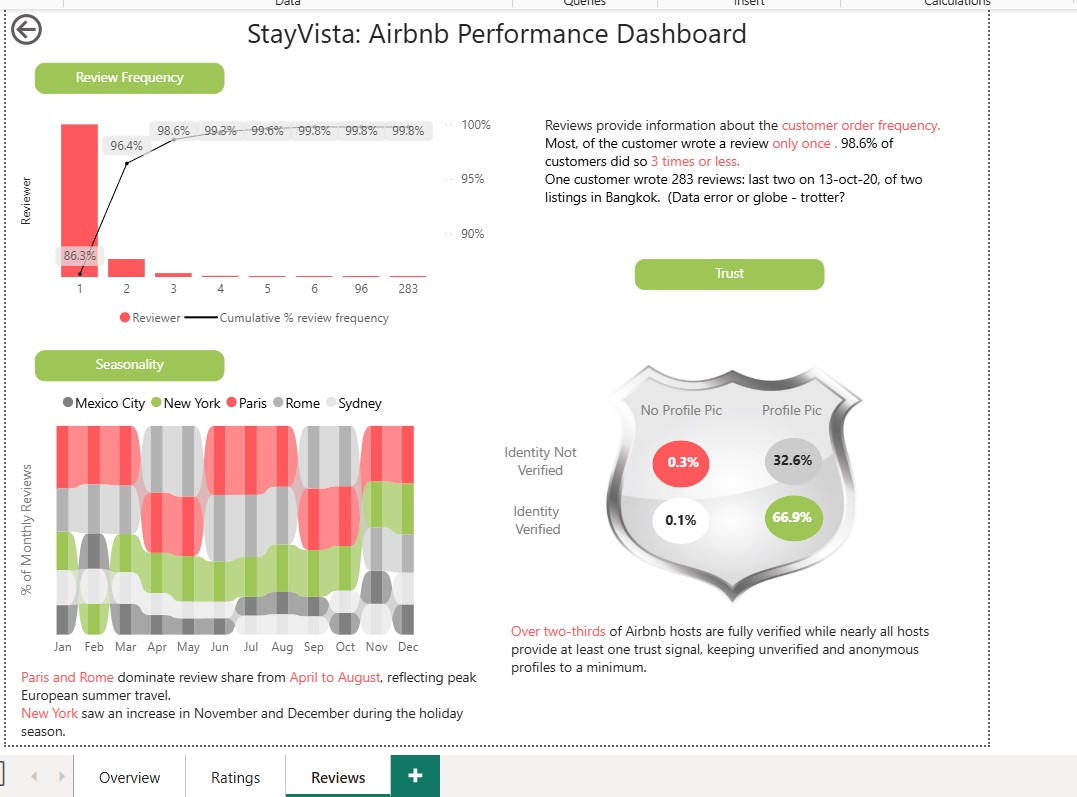

This screenshot's page, from the dashboard's own definition file:
{"tool":"powerbi","page":{"name":"Reviews","canvas":[960,720],"ordinal":2},"visuals":[{"type":"textbox","box":[213.4,0,533.2,52.6],"z":0},{"type":"textbox","box":[28.1,52.6,185.9,30.6],"z":1000},{"type":"actionButton","box":[0,0,100,40],"z":3000},{"type":"textbox","box":[615.1,244.6,185.9,30.6],"z":4000},{"type":"textbox","box":[489.1,594.3,437.8,89.3],"z":5000},{"type":"lineStackedColumnComboChart","fields":{"Y":["Reviews.Reviewers"],"Y2":["Reviews.Cumulative % review frequency"],"Category":["Reviews.Reviews per Reviewer"]},"box":[9.8,99,470.8,221.3],"z":6000},{"type":"image","box":[461,286.1,498.9,360.7],"z":7000},{"type":"textbox","box":[522.1,99,413.3,111.3],"z":8000},{"type":"shape","box":[742.3,475.7,57.5,45.2],"z":9000},{"type":"shape","box":[742.3,419.4,56.3,46.5],"z":10000},{"type":"shape","box":[632.2,478.1,56.3,45.2],"z":11000},{"type":"shape","box":[632.2,421.9,56.3,46.5],"z":12000},{"type":"card","fields":{"Values":["Listings.Verified_Profile %"]},"box":[742.3,476.9,53.8,45.2],"z":13000},{"type":"card","fields":{"Values":["Listings.verified_No_Profile %"]},"box":[634.7,479.4,51.4,45.2],"z":14000},{"type":"card","fields":{"Values":["Listings.Notverified_Profile %"]},"box":[742.3,421.9,55,42.8],"z":15000},{"type":"card","fields":{"Values":["Listings.Notverified_No_Profile %"]},"box":[637.1,421.9,51.4,46.5],"z":16000},{"type":"textbox","box":[728.8,377.9,79.5,29.3],"z":17000},{"type":"textbox","box":[612.6,377.9,95.4,30.6],"z":18000},{"type":"textbox","box":[458.6,419.4,128.4,45.2],"z":19000},{"type":"textbox","box":[458.6,476.9,123.5,51.4],"z":20000},{"type":"ribbonChart","fields":{"Y":["Reviews.% of Monthly Reviews"],"Series":["Listings.city"],"Category":["Reviews.Review Month"]},"box":[9.8,364.4,407.2,277.6],"z":21000},{"type":"textbox","box":[28.1,333.8,185.9,30.6],"z":22000},{"type":"textbox","box":[9.8,639.5,465.9,80.7],"z":23000}]}

Visuals, with their boxes on the page's 960x720 design canvas (x1, y1, x2, y2). These are canvas units, not pixel positions in the 1077x797 screenshot, which may show the page scaled, cropped or inside an application window:
textbox: (left=213, top=0, right=747, bottom=53)
textbox: (left=28, top=53, right=214, bottom=83)
actionButton: (left=0, top=0, right=100, bottom=40)
textbox: (left=615, top=245, right=801, bottom=275)
textbox: (left=489, top=594, right=927, bottom=684)
lineStackedColumnComboChart - Reviews.Reviewers x Reviews.Cumulative % review frequency: (left=10, top=99, right=481, bottom=320)
image: (left=461, top=286, right=960, bottom=647)
textbox: (left=522, top=99, right=935, bottom=210)
shape: (left=742, top=476, right=800, bottom=521)
shape: (left=742, top=419, right=799, bottom=466)
shape: (left=632, top=478, right=688, bottom=523)
shape: (left=632, top=422, right=688, bottom=468)
card - Listings.Verified_Profile %: (left=742, top=477, right=796, bottom=522)
card - Listings.verified_No_Profile %: (left=635, top=479, right=686, bottom=525)
card - Listings.Notverified_Profile %: (left=742, top=422, right=797, bottom=465)
card - Listings.Notverified_No_Profile %: (left=637, top=422, right=688, bottom=468)
textbox: (left=729, top=378, right=808, bottom=407)
textbox: (left=613, top=378, right=708, bottom=408)
textbox: (left=459, top=419, right=587, bottom=465)
textbox: (left=459, top=477, right=582, bottom=528)
ribbonChart - Reviews.% of Monthly Reviews x Listings.city: (left=10, top=364, right=417, bottom=642)
textbox: (left=28, top=334, right=214, bottom=364)
textbox: (left=10, top=640, right=476, bottom=720)
